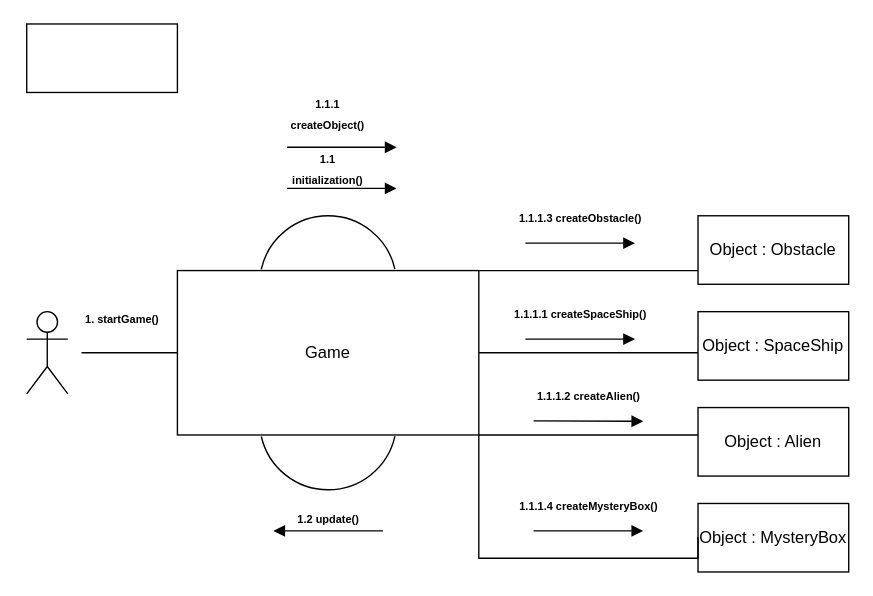
Some shapes in this 873 by 596 pixel diagram are drawn without their labels. Here are the shapes that lost their labels. From the top down, the centre of each, then its label:
At pixel 101 57: "START GAME".
At pixel 46 352: "Player".
